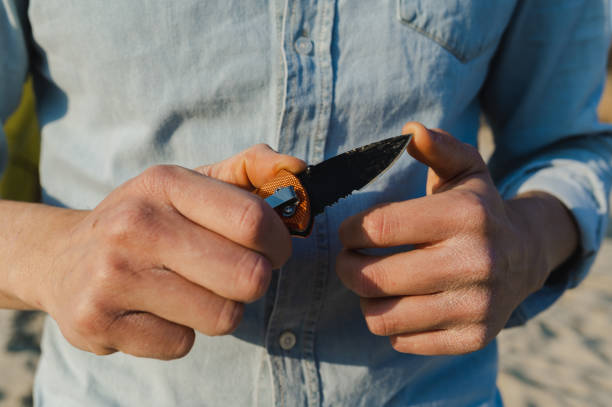knife: (252, 134, 415, 235)
